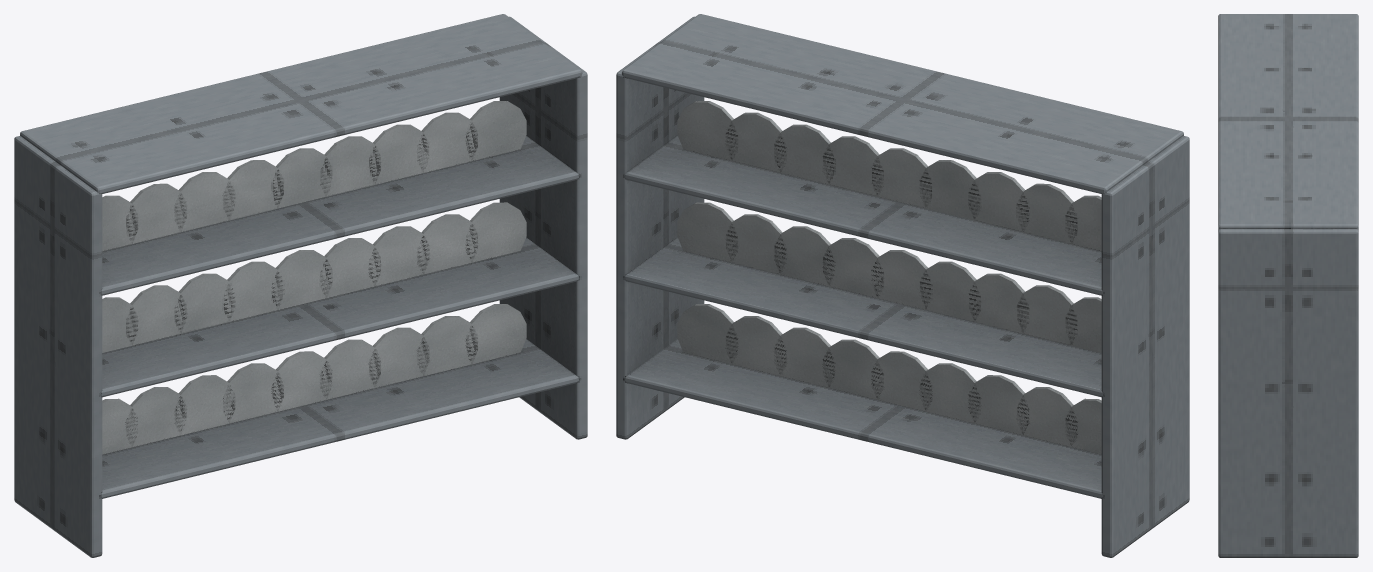
File: base_dish_rack.glb
3 renders of one model, left to right at view 1: azimuth 30°, elevation 25°; view 2: azimuth 150°, elevation 25°; view 3: azimuth 270°, elevation 25°, orthographic. The views are drawn at different scales.
Visible parts, largest first — view 1: base_dish_rack; view 2: base_dish_rack; view 3: base_dish_rack.
Part boxes in pixels (x1=…): base_dish_rack: x1=14, y1=14, x2=587, y2=557; base_dish_rack: x1=616, y1=14, x2=1189, y2=557; base_dish_rack: x1=1218, y1=14, x2=1358, y2=557.
Size of the model in its own units: 2.56 by 1.82 by 0.7.
2 materials, 2 textured.
